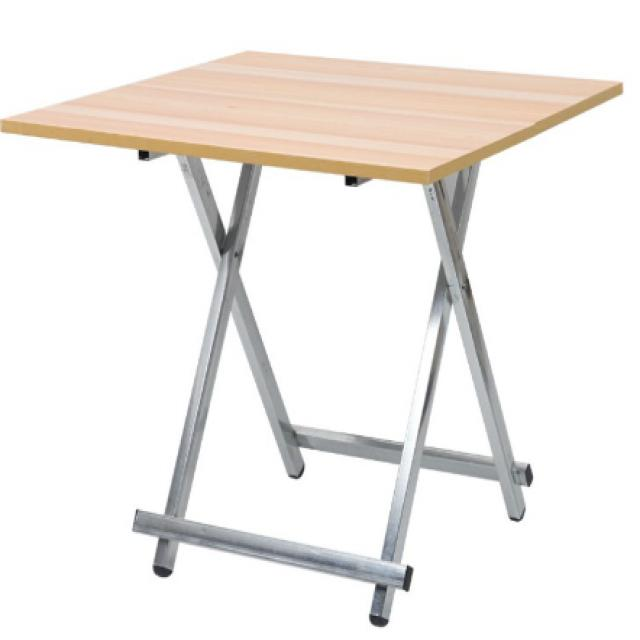table: (1, 44, 632, 630)
